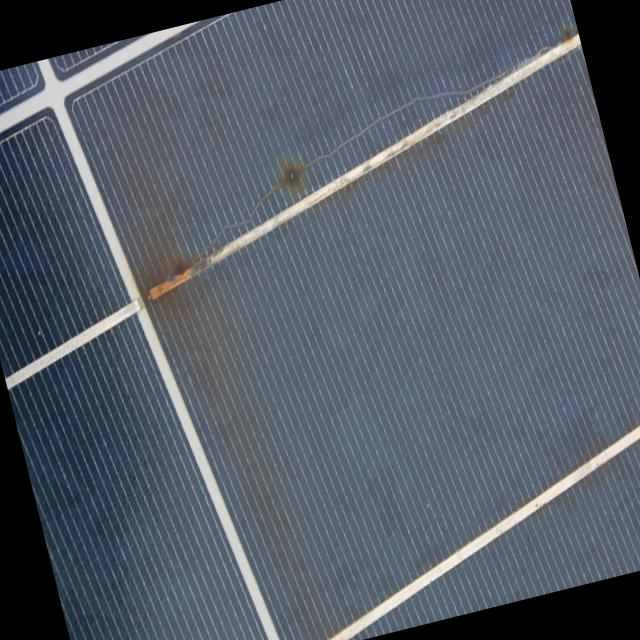faulty: (117, 141, 337, 340)
